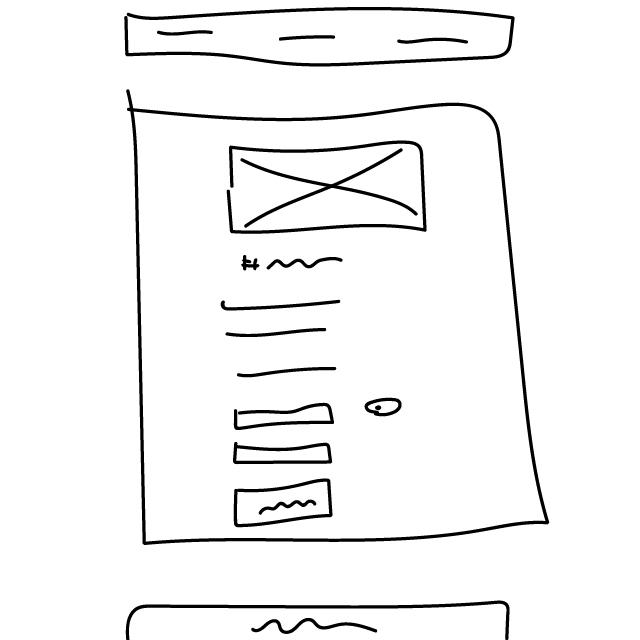button: (230, 473, 338, 529)
checkbox: (366, 396, 406, 419)
container: (105, 80, 569, 568)
footer: (112, 599, 521, 640)
frame: (215, 137, 434, 237)
heading: (236, 251, 347, 281)
input: (229, 402, 340, 433), (229, 436, 337, 467)
nav: (118, 3, 525, 70)
text: (220, 294, 350, 382)
